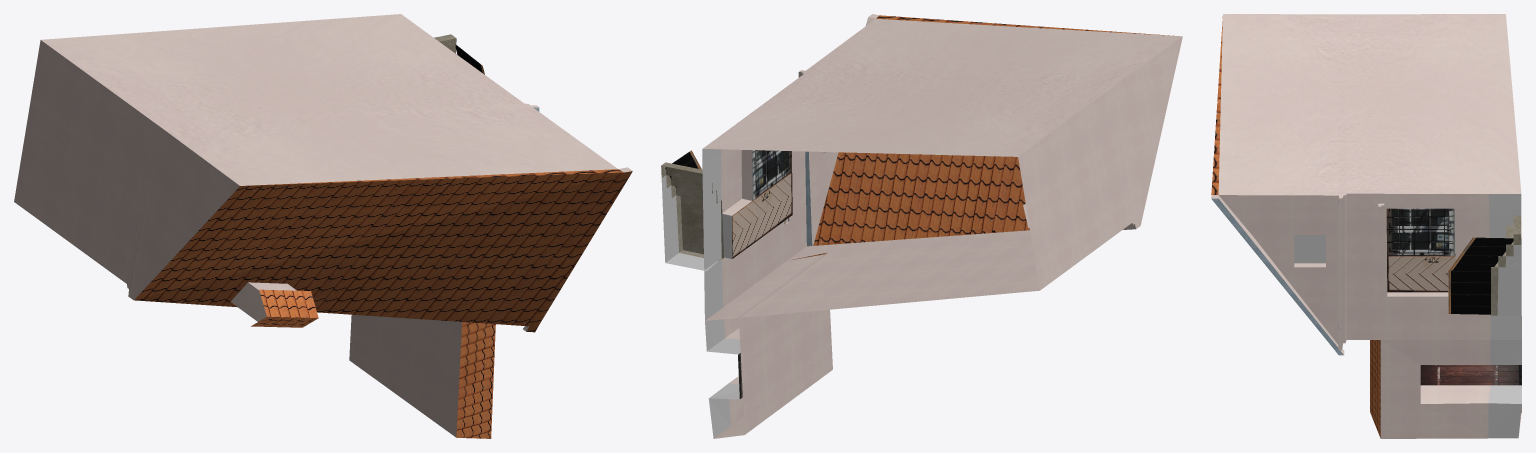
File: Ryytli_20.obj
3 views of the same model, side by side, from view 1: azimuth 30°, elevation 25°; view 2: azimuth 150°, elevation 25°; view 3: azimuth 270°, elevation 25° (orthographic). The views are drawn at different scales.
Visible parts, largest first — view 1: Ryytli_20, xxx; view 2: Ryytli_20, xxx; view 3: xxx, Ryytli_20.
Part boxes in pixels (left/top/right/bottom): Ryytli_20: left=14, top=34, right=632, bottom=438; xxx: left=41, top=14, right=623, bottom=185; Ryytli_20: left=661, top=14, right=1182, bottom=438; xxx: left=702, top=15, right=1182, bottom=438; xxx: left=1211, top=14, right=1521, bottom=433; Ryytli_20: left=1211, top=193, right=1521, bottom=438.
Size of the model in its own units: 7.74 by 6.96 by 6.54.
